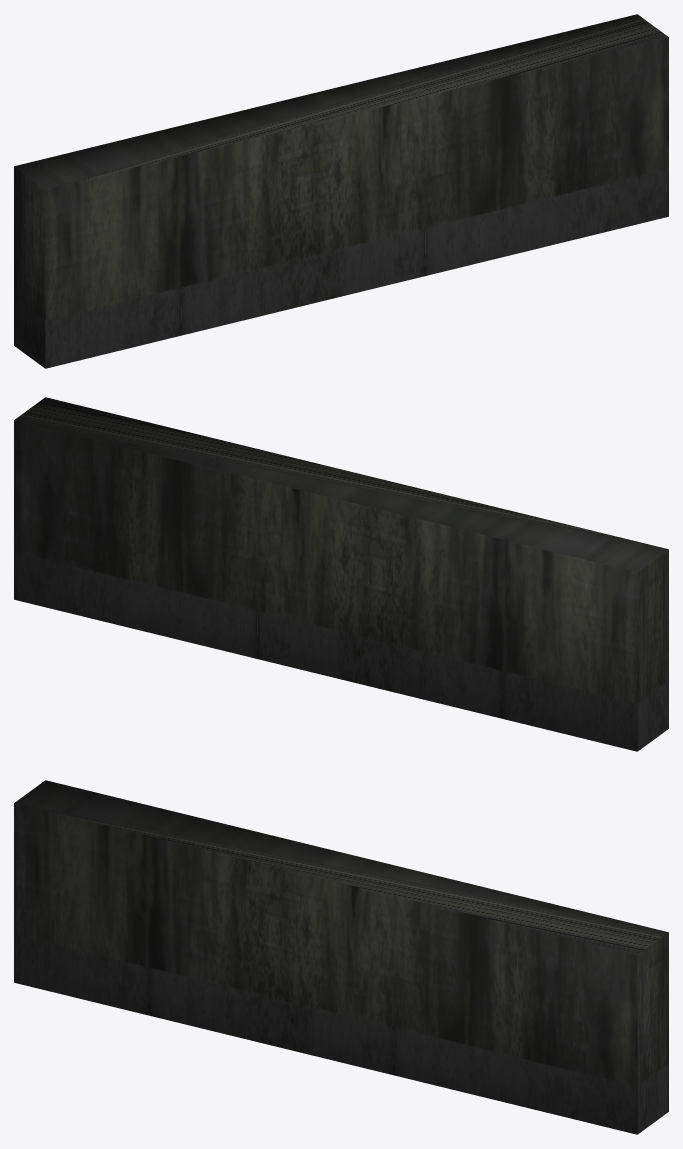
The model's file is Sewer_CappedLowWall.fbx.
3 renders of one model, top to bottom at view 1: azimuth 30°, elevation 25°; view 2: azimuth 150°, elevation 25°; view 3: azimuth 330°, elevation 25°, orthographic.
Parts seen in each view (by area): view 1: Sewer_CappedLowWall; view 2: Sewer_CappedLowWall; view 3: Sewer_CappedLowWall.
Boxes of the visible parts, bbox=[...] form: Sewer_CappedLowWall: bbox=[14, 14, 668, 368]; Sewer_CappedLowWall: bbox=[14, 397, 668, 751]; Sewer_CappedLowWall: bbox=[14, 780, 668, 1134].
Size of the model in its own units: 4 by 1.1 by 0.35.
